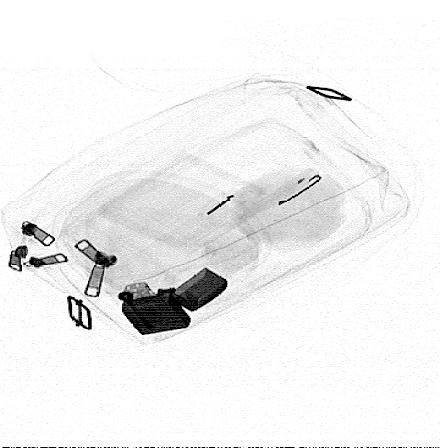Lighter: (117, 267, 227, 335)
